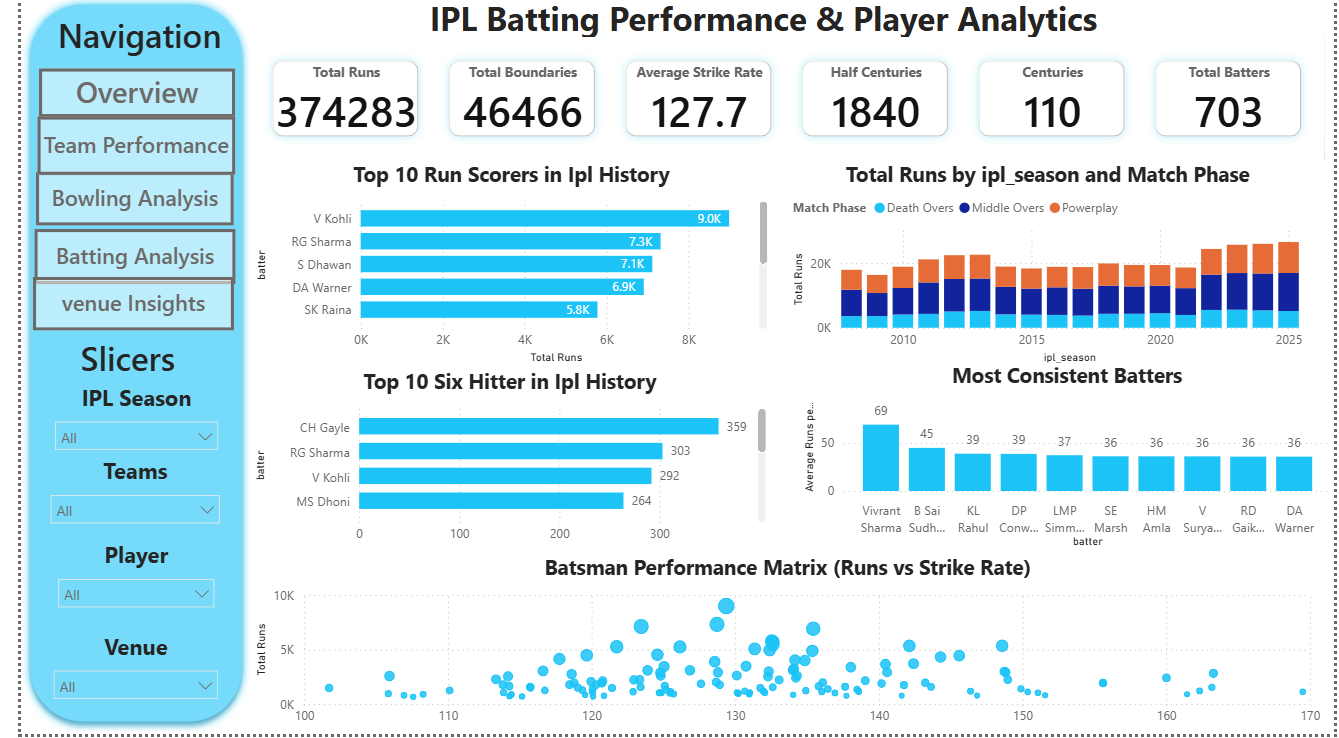

What the dashboard file says about the page in this screenshot:
{"tool":"powerbi","page":{"name":"Batting Analysis","canvas":[1280,720],"ordinal":2},"visuals":[{"type":"group","id":"g1","title":"Group 1","box":[0,0,223.4,716.4],"z":0},{"type":"shape","box":[0,0,224.2,716.9],"z":500,"group":"g1"},{"type":"textbox","title":"IPL Batting Performance & Player Analytics","box":[393.2,0,674.2,47.4],"z":1000},{"type":"barChart","title":"Top 10 Run Scorers in Ipl History","fields":{"Category":["deliveries.batter"],"Y":["Calculated_Measures.Total Runs"]},"box":[224.2,161.1,508.4,202.1],"z":2000},{"type":"slicer","title":"Venue","fields":{"Values":["matches.venue"]},"box":[22.1,619,180,72.6],"z":2937,"group":"g1"},{"type":"cardVisual","fields":{"Data":["Calculated_Measures.Total Runs","Calculated_Measures.Total Boundaries","Calculated_Measures.Average Strike Rate","Calculated_Measures.Total 50s","Calculated_Measures.Centuries","Calculated_Measures.Total Batters"]},"box":[222.6,41.1,1048.4,120],"z":3000},{"type":"barChart","title":"Top 10 Six Hitter in Ipl History","fields":{"Y":["Calculated_Measures.Total Sixes"],"Category":["deliveries.batter"]},"box":[222.6,363.2,508.4,180],"z":4000},{"type":"columnChart","title":"Most Consistent Batters","fields":{"Y":["Calculated_Measures.Average Runs per Match"],"Category":["deliveries.batter"]},"box":[756.3,356.8,524.2,186.3],"z":5000},{"type":"actionButton","box":[17.4,71.1,191.1,47.4],"z":5375,"group":"g1"},{"type":"slicer","title":"IPL Season","fields":{"Values":["matches.Season Label"]},"box":[23.7,377.4,178.4,71.1],"z":5679,"group":"g1"},{"type":"actionButton","box":[14.2,172.1,192.6,52.1],"z":5984,"group":"g1"},{"type":"columnChart","fields":{"Category":["matches.ipl_season"],"Series":["deliveries.Match Phase"],"Y":["Calculated_Measures.Total Runs"]},"box":[746.9,161.1,506.8,202.1],"z":6000},{"type":"slicer","title":"Player","fields":{"Values":["deliveries.batter"]},"box":[26.8,530.5,172.1,75.8],"z":6288,"group":"g1"},{"type":"actionButton","box":[12.6,227.4,195.8,53.7],"z":6593,"group":"g1"},{"type":"scatterChart","title":"Batsman Performance Matrix (Runs vs Strike Rate)","fields":{"X":["Calculated_Measures.Average Strike Rate"],"Y":["Calculated_Measures.Total Runs"],"Category":["deliveries.batter"],"Size":["Calculated_Measures.Balls Faced"]},"box":[224.2,543.2,1046.9,176.8],"z":7000},{"type":"slicer","title":"Teams","fields":{"Values":["matches.team1"]},"box":[18.9,448.4,184.7,69.5],"z":7202,"group":"g1"},{"type":"actionButton","box":[11.1,274.7,195.8,52.1],"z":7812,"group":"g1"},{"type":"textbox","box":[5.8,325.5,196.4,63.6],"z":10250,"group":"g1"},{"type":"textbox","box":[30,11.1,178.4,60],"z":10750,"group":"g1"},{"type":"actionButton","box":[15.8,118.4,192.6,56.8],"z":11250,"group":"g1"}]}

Visuals, with their boxes in screenshot pixels (x1, y1, x2, y2), scaled from the page's 1280x720 canvas onto the 1339x738 screenshot:
"Group 1" group: (left=0, top=0, right=234, bottom=734)
shape: (left=0, top=0, right=235, bottom=735)
"IPL Batting Performance & Player Analytics" textbox: (left=411, top=0, right=1117, bottom=49)
"Top 10 Run Scorers in Ipl History" barChart: (left=235, top=165, right=766, bottom=372)
"Venue" slicer: (left=23, top=634, right=211, bottom=709)
cardVisual - Calculated_Measures.Total Runs x Calculated_Measures.Total Boundaries: (left=233, top=42, right=1330, bottom=165)
"Top 10 Six Hitter in Ipl History" barChart: (left=233, top=372, right=765, bottom=557)
"Most Consistent Batters" columnChart: (left=791, top=366, right=1338, bottom=557)
actionButton: (left=18, top=73, right=218, bottom=121)
"IPL Season" slicer: (left=25, top=387, right=211, bottom=460)
actionButton: (left=15, top=176, right=216, bottom=230)
columnChart - matches.ipl_season x deliveries.Match Phase: (left=781, top=165, right=1311, bottom=372)
"Player" slicer: (left=28, top=544, right=208, bottom=621)
actionButton: (left=13, top=233, right=218, bottom=288)
"Batsman Performance Matrix (Runs vs Strike Rate)" scatterChart: (left=235, top=557, right=1330, bottom=737)
"Teams" slicer: (left=20, top=460, right=213, bottom=531)
actionButton: (left=12, top=282, right=216, bottom=335)
textbox: (left=6, top=334, right=212, bottom=399)
textbox: (left=31, top=11, right=218, bottom=73)
actionButton: (left=17, top=121, right=218, bottom=180)
